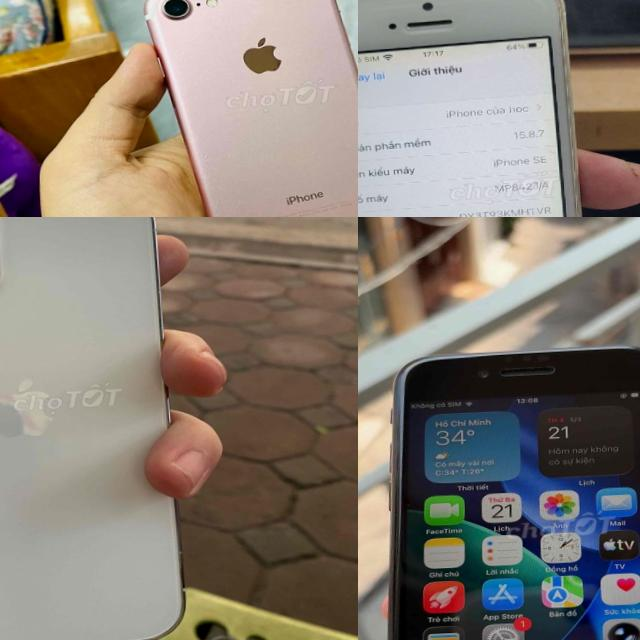gen_12_13: (0, 217, 201, 640)
gen_6: (358, 0, 581, 217)
gen_7_8: (374, 337, 640, 640), (135, 0, 358, 217)
scratch: (253, 212, 265, 217)
